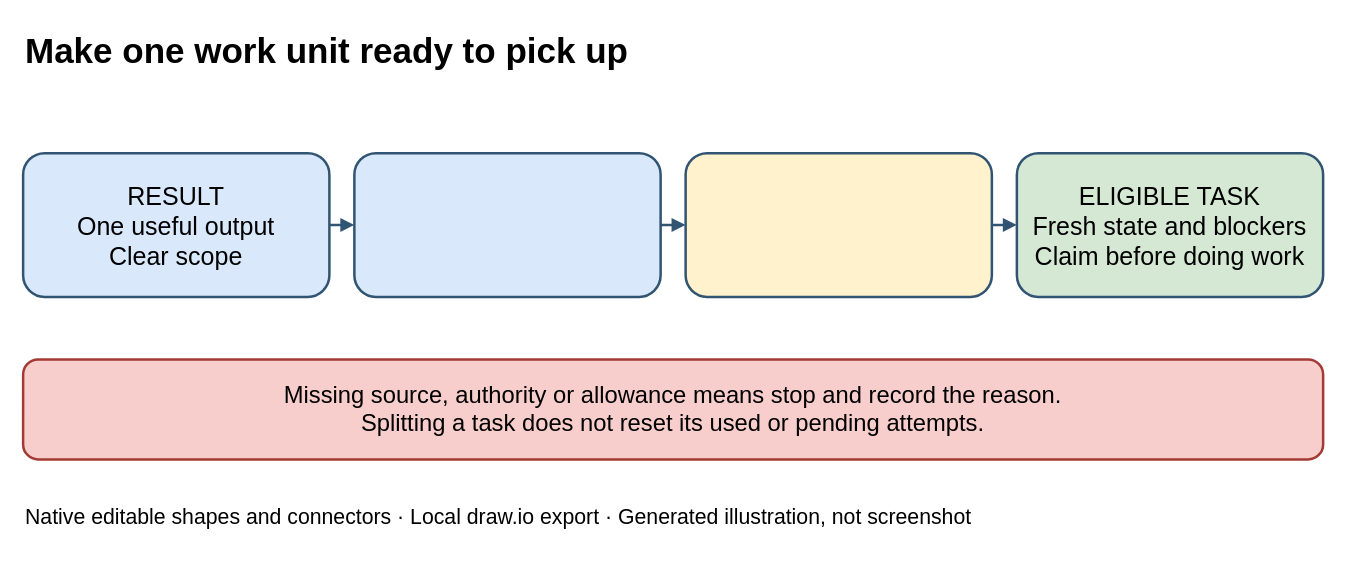
Image size: 1345x580. Some labels were removed from this diagram. The box of each missing label's shape, as (x1, y1, x2, y2) in pixels:
INPUTS + CHECKS Exact source version Observable completion: (352, 151, 661, 298)
OWNER + LIMITS Authority and roles Shared finite allowance: (684, 151, 992, 298)
